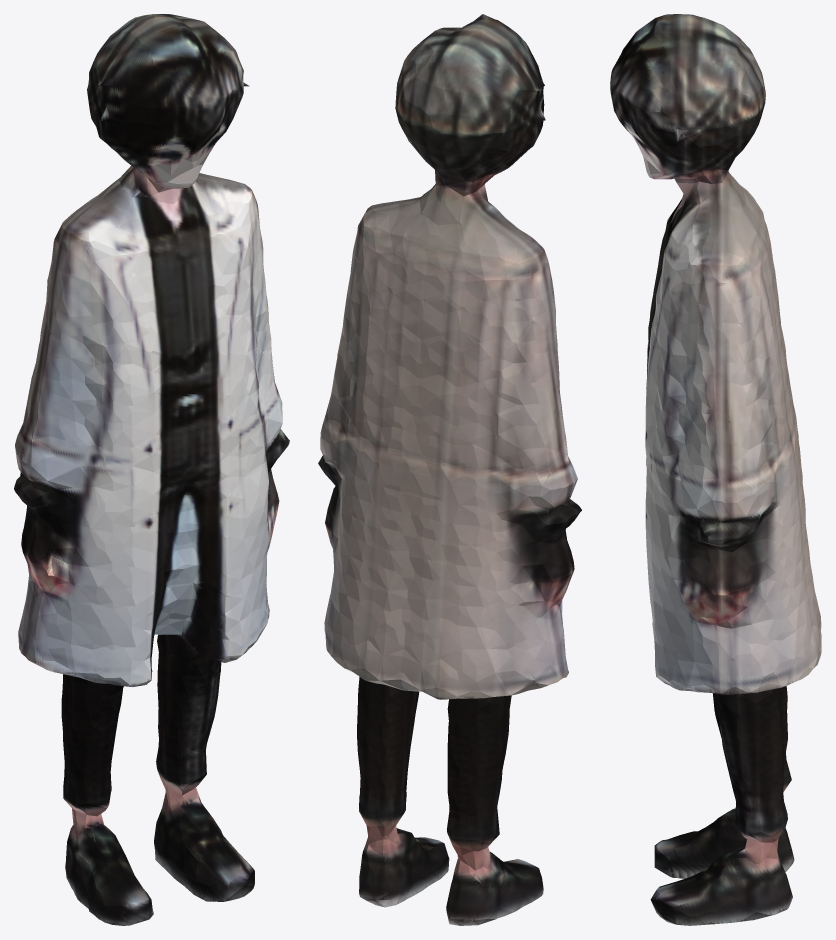
Rendered from clonihil_stand_front.glb.
3 renders of one model, left to right at view 1: azimuth 30°, elevation 25°; view 2: azimuth 150°, elevation 25°; view 3: azimuth 270°, elevation 25°, orthographic. The views are drawn at different scales.
Size of the model in its own units: 0.2973 by 0.9602 by 0.2117.
1 material, 1 textured.
